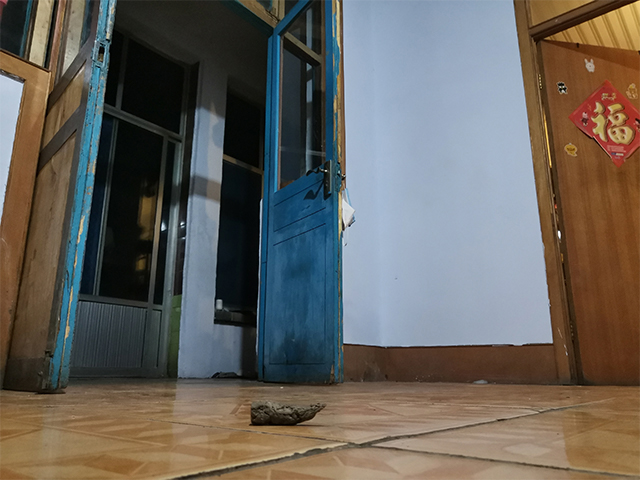feces: (248, 398, 328, 427)
